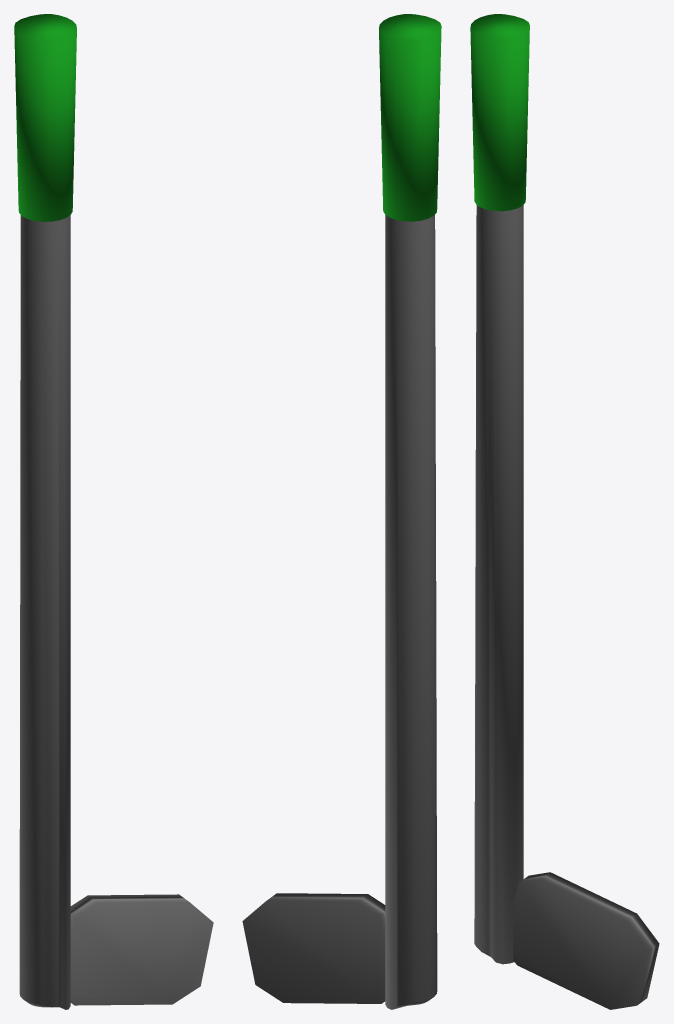
Rendered from rigtig golfkølle.fbx.
The picture shows the model from 3 angles, left to right: view 1: azimuth 30°, elevation 25°; view 2: azimuth 150°, elevation 25°; view 3: azimuth 330°, elevation 25°; orthographic projection. The views are drawn at different scales.
Visible parts, largest first — view 1: stangen, Cube, håndtag; view 2: stangen, Cube, håndtag; view 3: stangen, Cube, håndtag.
Part boxes in pixels (bbox=[...]): stangen: bbox=[19, 215, 70, 1009]; Cube: bbox=[70, 894, 213, 1005]; håndtag: bbox=[14, 14, 76, 221]; stangen: bbox=[385, 215, 437, 1009]; Cube: bbox=[242, 893, 385, 1003]; håndtag: bbox=[379, 14, 441, 221]; stangen: bbox=[474, 205, 523, 964]; Cube: bbox=[513, 872, 659, 1009]; håndtag: bbox=[470, 14, 529, 211].
Bounding box in the file's own units: 17.47 × 88.33 × 4.88.
